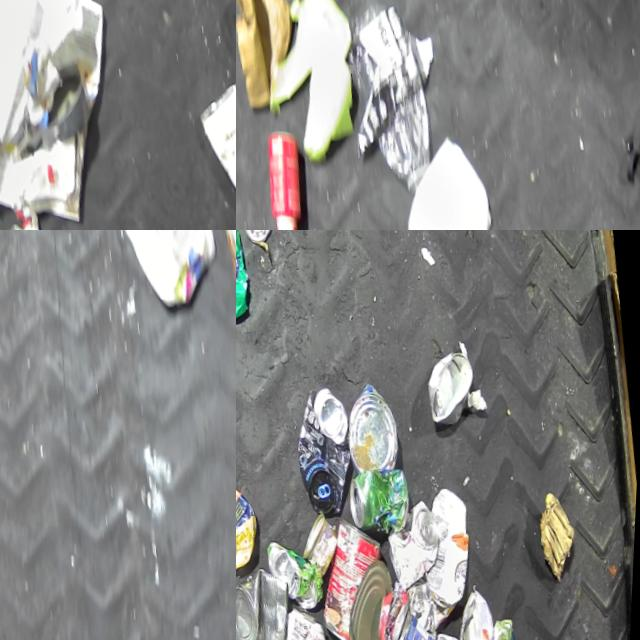can: (313, 506, 400, 640), (290, 376, 366, 513), (383, 488, 449, 587), (343, 372, 408, 470), (341, 550, 410, 640), (236, 557, 306, 640), (346, 455, 416, 533), (267, 529, 331, 610), (423, 334, 483, 420), (42, 51, 99, 138), (377, 595, 473, 640), (455, 576, 506, 640), (301, 505, 347, 574), (272, 597, 341, 640), (236, 478, 267, 573), (236, 230, 256, 321), (438, 620, 473, 640), (239, 230, 276, 241)
milk_jug: (394, 122, 508, 230)
plastic_bottle: (336, 0, 444, 198)
